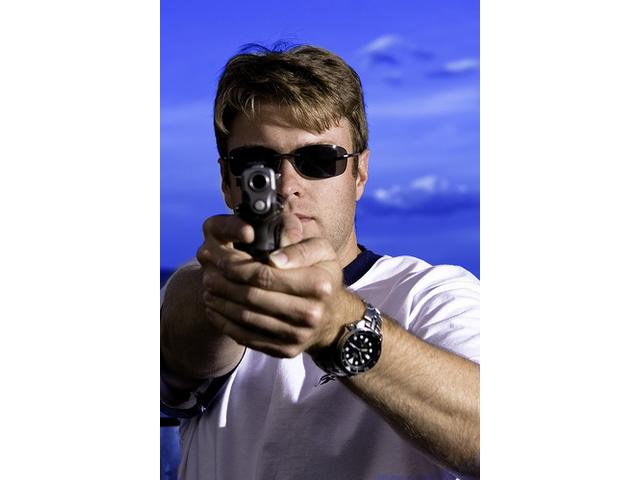pistol: (237, 166, 284, 314)
